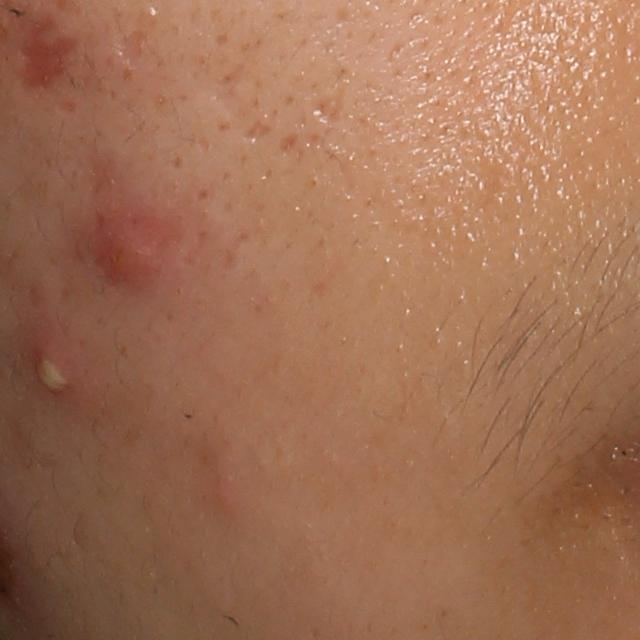atrophic_scar: (185, 47, 255, 130), (9, 17, 80, 96), (308, 86, 342, 124), (113, 30, 147, 65), (240, 116, 273, 138), (277, 131, 301, 155)
papule: (90, 213, 173, 293), (199, 465, 264, 524)
pustule: (25, 336, 77, 398)
